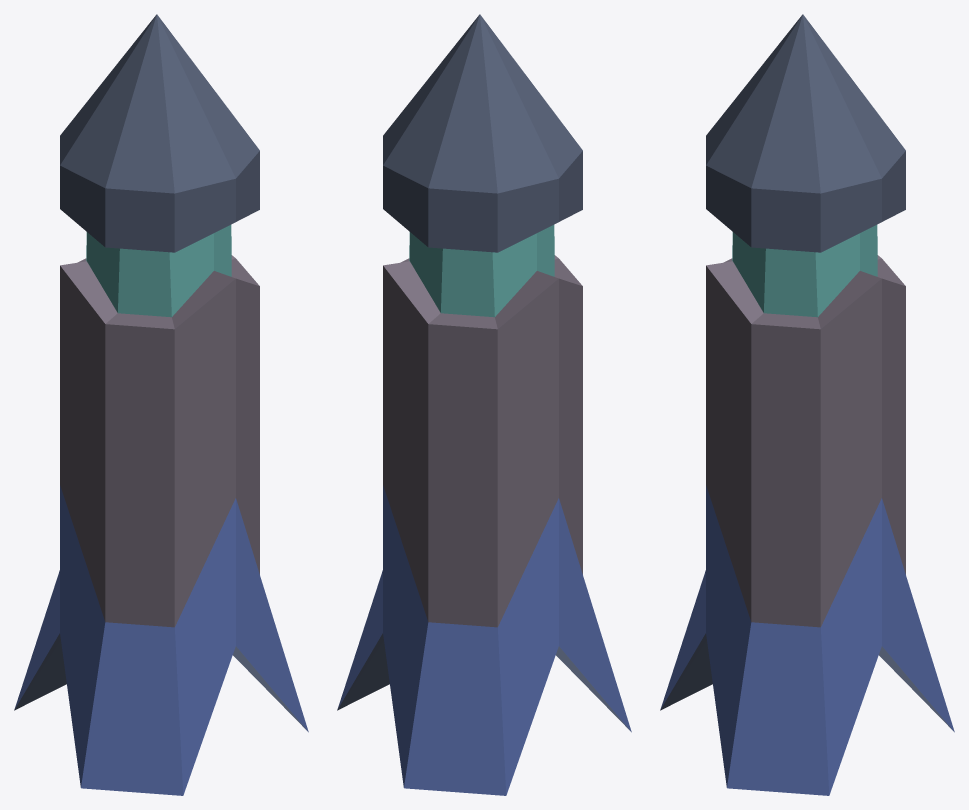
File: missile.glb
3 renders of one model, left to right at view 1: azimuth 30°, elevation 25°; view 2: azimuth 150°, elevation 25°; view 3: azimuth 270°, elevation 25°, orthographic.
Visible parts, largest first — view 1: Cylinder; view 2: Cylinder; view 3: Cylinder.
Part boxes in pixels (x1,y1,x2,y2): Cylinder: (14,14,308,795); Cylinder: (337,14,631,795); Cylinder: (660,14,954,795).
Size of the model in its own units: 2.73 by 7.69 by 2.86.
Materials: 1 (1 with a texture image).
